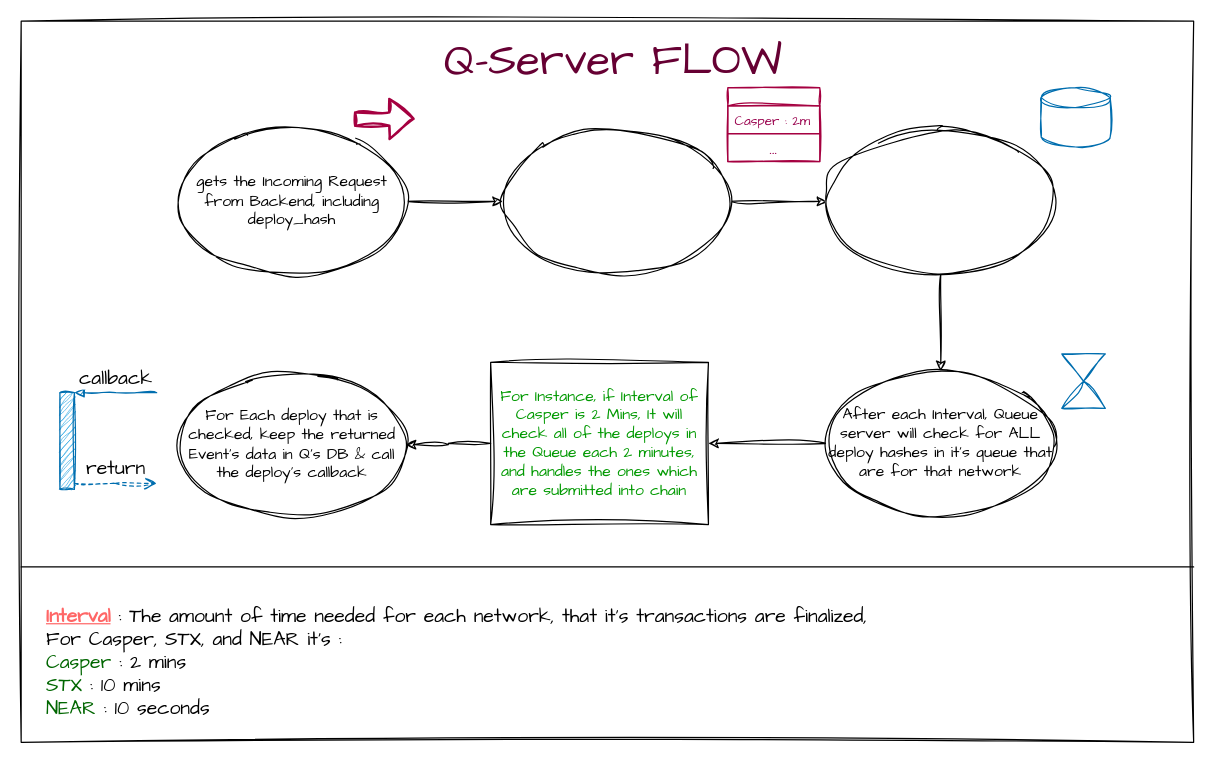
Image size: 1216x764. Some labels were removed from this diagram. Each missing label, with the box of its shape:
Adds that request to the Queue and modifies the DB for it: (826, 128, 1055, 274)
Has a table of Intervals, which maps each network name to its interval.: (502, 128, 730, 274)
List: (727, 87, 820, 162)
